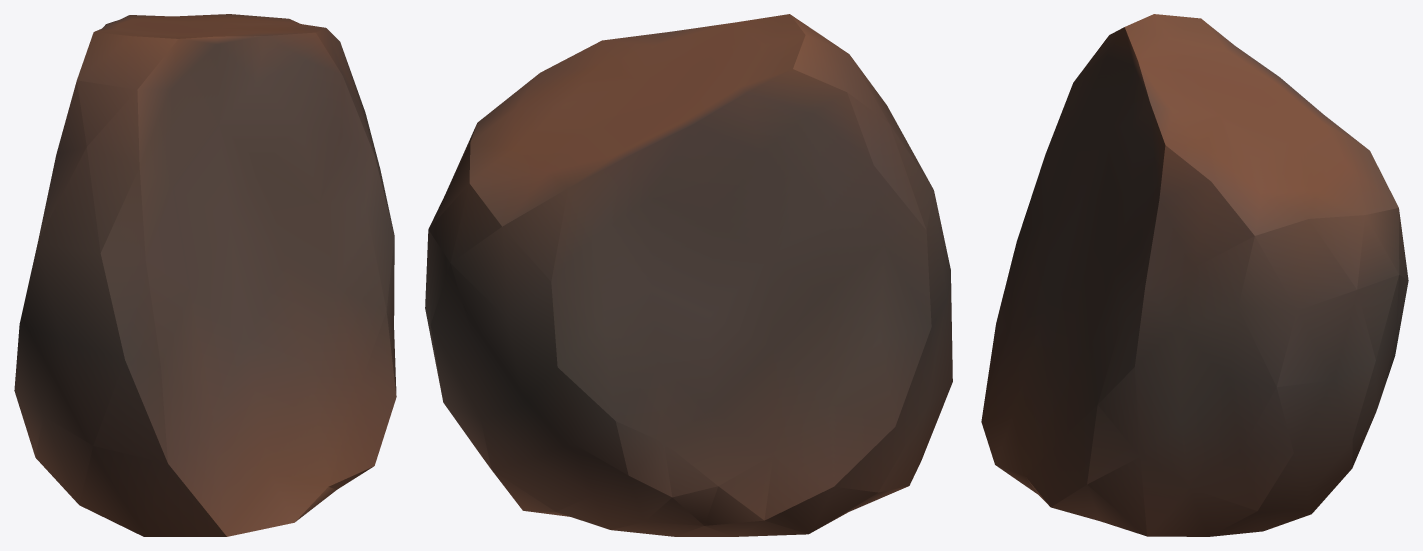
File: rock_small_04.glb
3 views of the same model, side by side, from view 1: azimuth 30°, elevation 25°; view 2: azimuth 150°, elevation 25°; view 3: azimuth 270°, elevation 25° (orthographic). The views are drawn at different scales.
Visible parts, largest first — view 1: rock; view 2: rock; view 3: rock.
Part boxes in pixels (<box>): rock: <box>14,14,396,536</box>; rock: <box>425,14,952,536</box>; rock: <box>981,14,1408,536</box>.
Bounding box in the file's own units: 0.5 × 0.521 × 0.4844.
